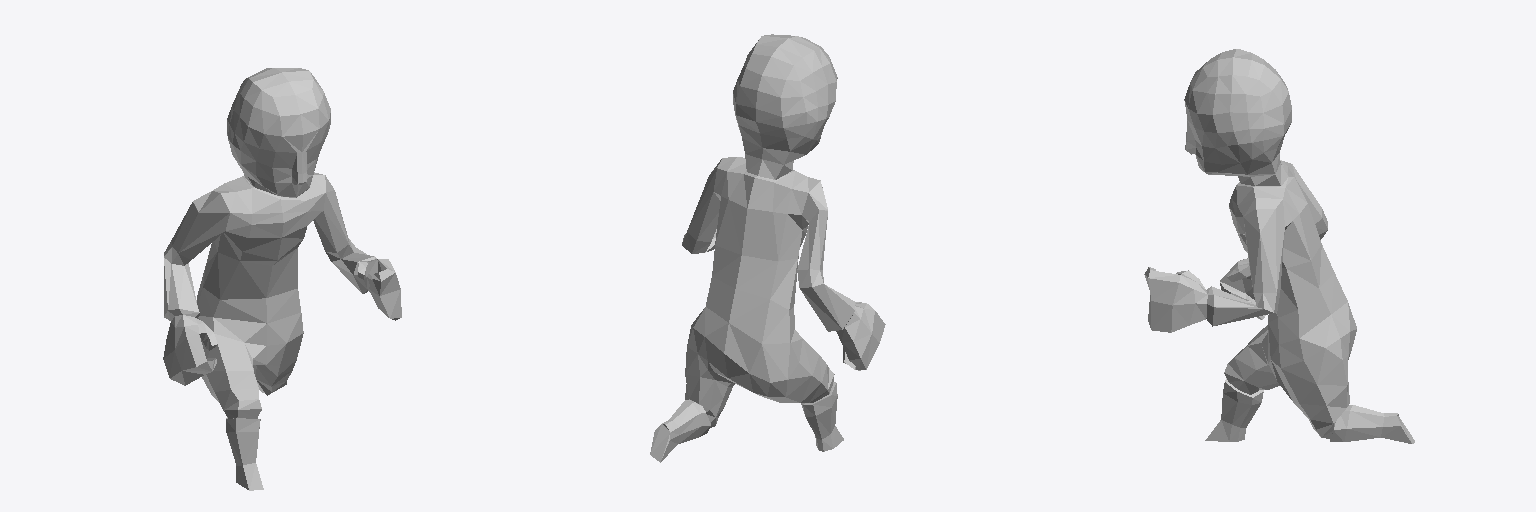
Rendered from KnightCharacter5.obj.
The picture shows the model from 3 angles: view 1: azimuth 30°, elevation 25°; view 2: azimuth 150°, elevation 25°; view 3: azimuth 270°, elevation 25°; orthographic projection.
Visible parts, largest first — view 1: Knight; view 2: Knight; view 3: Knight.
Part boxes in pixels (x1,y1,x2,y2): Knight: (163,68,401,490); Knight: (650,34,885,462); Knight: (1144,49,1414,443).
Size of the model in its own units: 2.52 by 5.17 by 3.18.